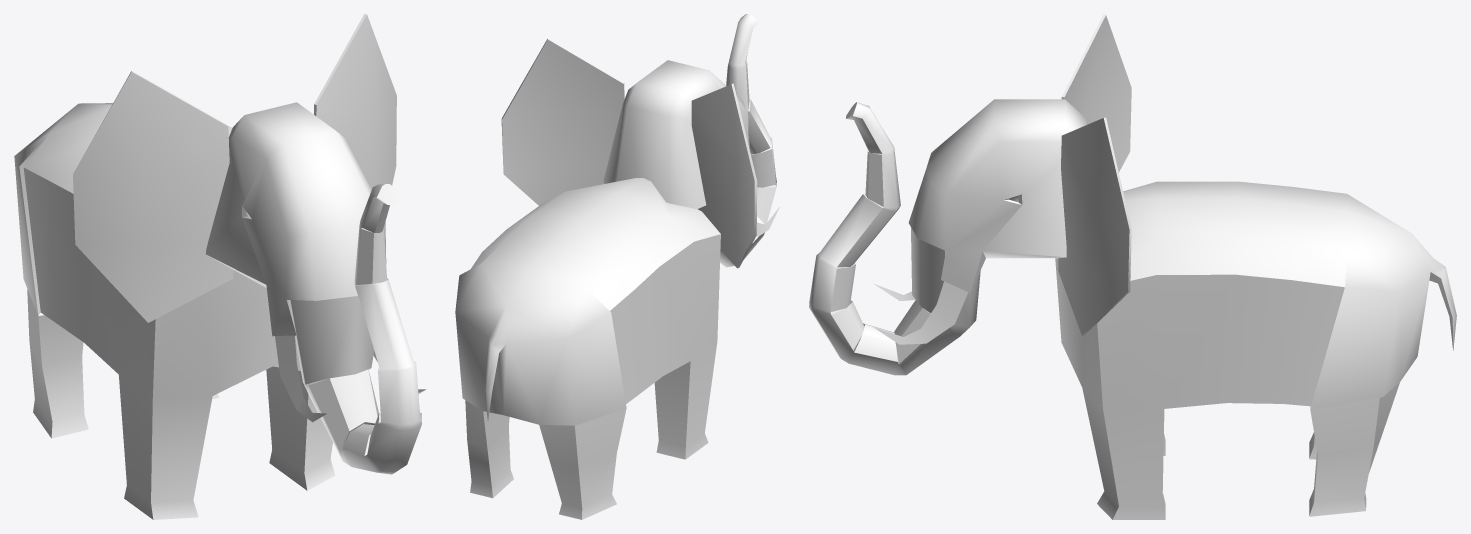
File: Ground_Elephant_Export.FBX
The picture shows the model from 3 angles, left to right: view 1: azimuth 30°, elevation 25°; view 2: azimuth 150°, elevation 25°; view 3: azimuth 270°, elevation 25°; orthographic projection. The views are drawn at different scales.
Visible parts, largest first — view 1: Ground_Elephant_Head, Ground_Elephant_Torso; view 2: Ground_Elephant_Torso, Ground_Elephant_Head; view 3: Ground_Elephant_Torso, Ground_Elephant_Head.
Part boxes in pixels (box(x1,y1,x2,y2)): Ground_Elephant_Head: box(73, 14, 426, 474); Ground_Elephant_Torso: box(14, 103, 335, 519); Ground_Elephant_Torso: box(455, 178, 720, 519); Ground_Elephant_Head: box(501, 14, 779, 268); Ground_Elephant_Torso: box(1055, 181, 1456, 519); Ground_Elephant_Head: box(809, 14, 1131, 375).
Size of the model in its own units: 97.37 by 132 by 187.
